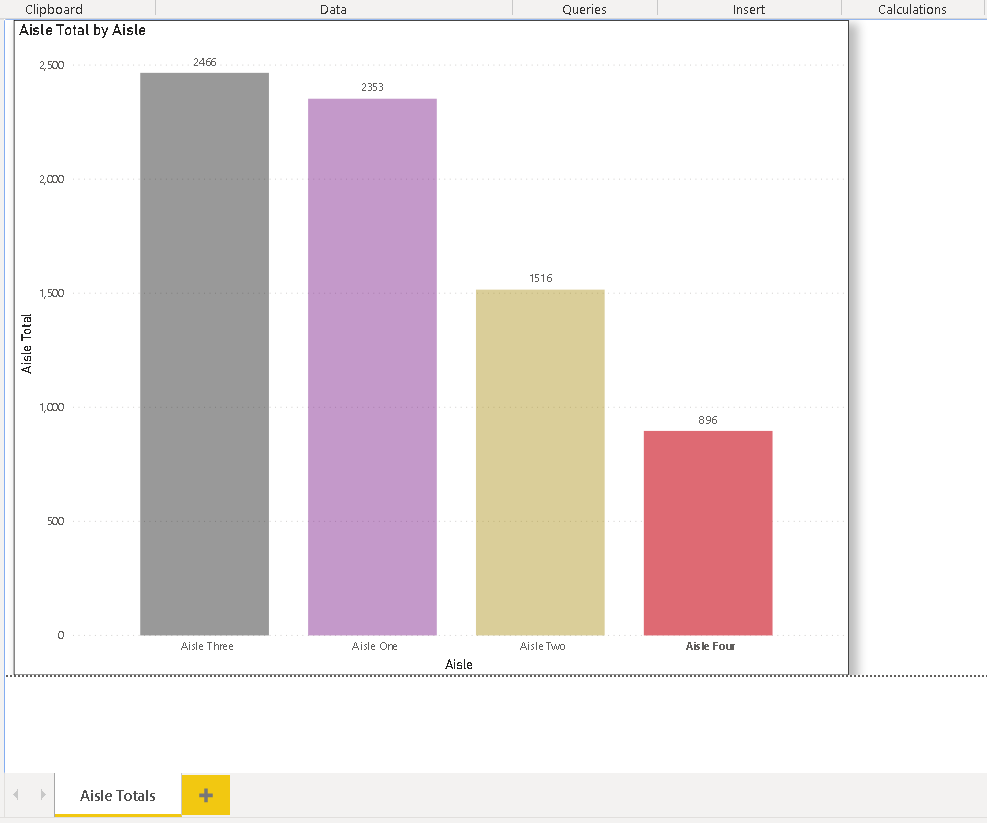

The page's visual inventory and layout, read from the dashboard file:
{"tool":"powerbi","page":{"name":"Aisle Totals","canvas":[1280,720],"ordinal":0},"visuals":[{"type":"clusteredColumnChart","fields":{"Category":["Grocery_Store_Aisle_By_Value.Aisle"],"Y":["Sum(Grocery_Store_Aisle_By_Value.Aisle_Total)"]},"box":[9.6,0,917.4,719.7],"z":0}]}

Visuals, with their boxes on the page's 1280x720 design canvas (x1, y1, x2, y2). These are canvas units, not pixel positions in the 987x823 screenshot, which may show the page scaled, cropped or inside an application window:
clusteredColumnChart - Grocery_Store_Aisle_By_Value.Aisle x Sum(Grocery_Store_Aisle_By_Value.Aisle_Total): bbox=(10, 0, 927, 720)
